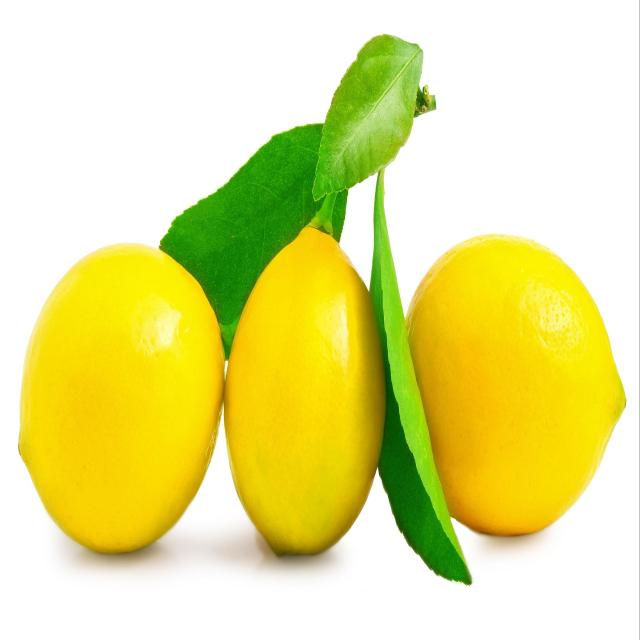lemon: (388, 227, 628, 542), (11, 234, 230, 557)
